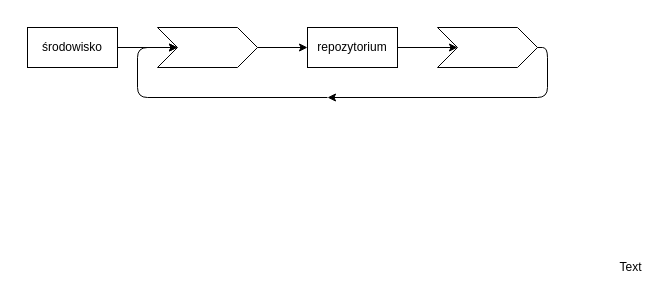
The diagram is 672 pixels wide and 299 high, and some of its shapes have lost their labels. The shapes that lost their labels are listed below. From the top down, each one's centre as x and y in pixels, then its label:
pixel 207 47: uczenie
pixel 487 47: wykonanie
